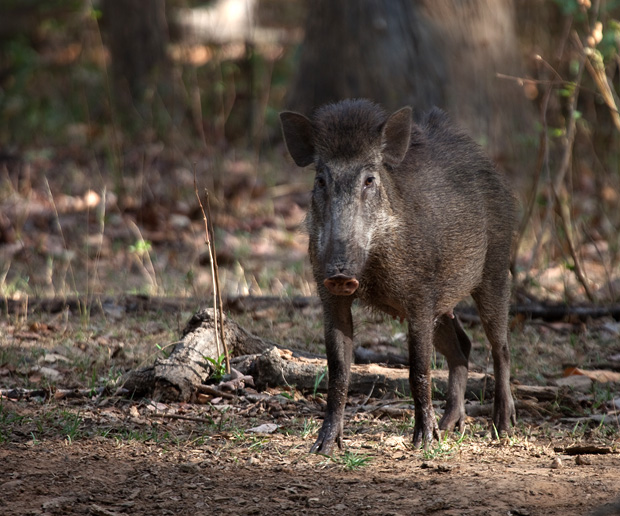wild boar: (268, 92, 541, 451)
